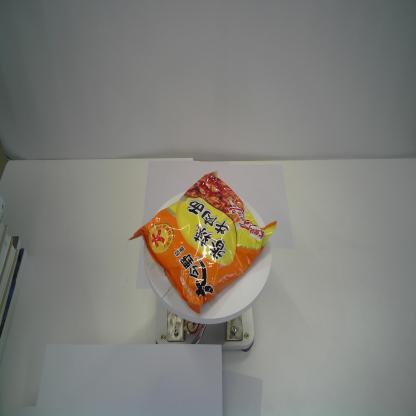Instant Noodles: (126, 168, 278, 316)
